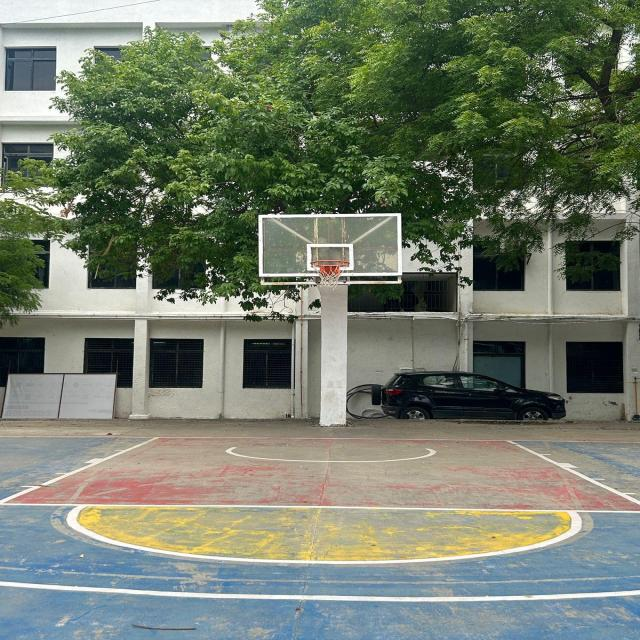hoop: (302, 245, 358, 297)
